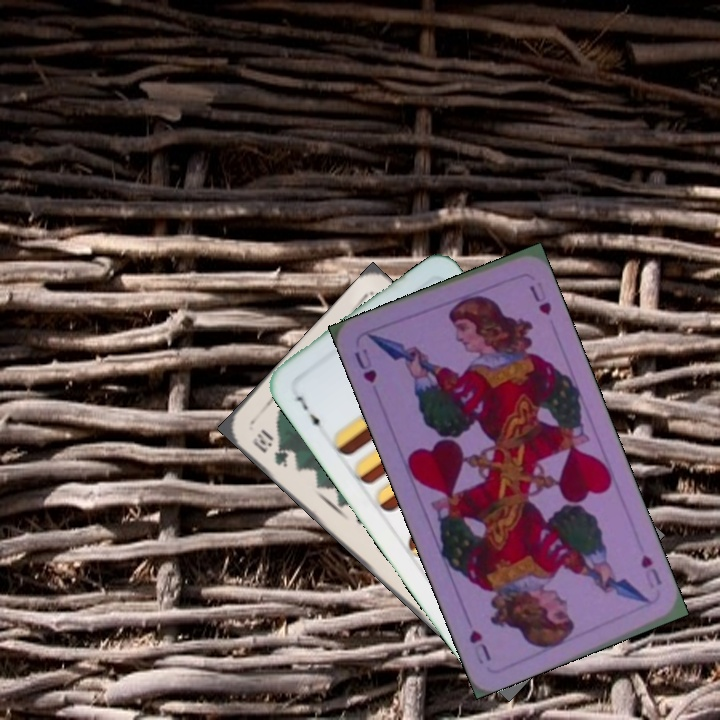E7: (292, 391, 325, 435)
G10: (248, 425, 291, 470)
HU: (350, 344, 380, 386), (636, 549, 665, 588)
